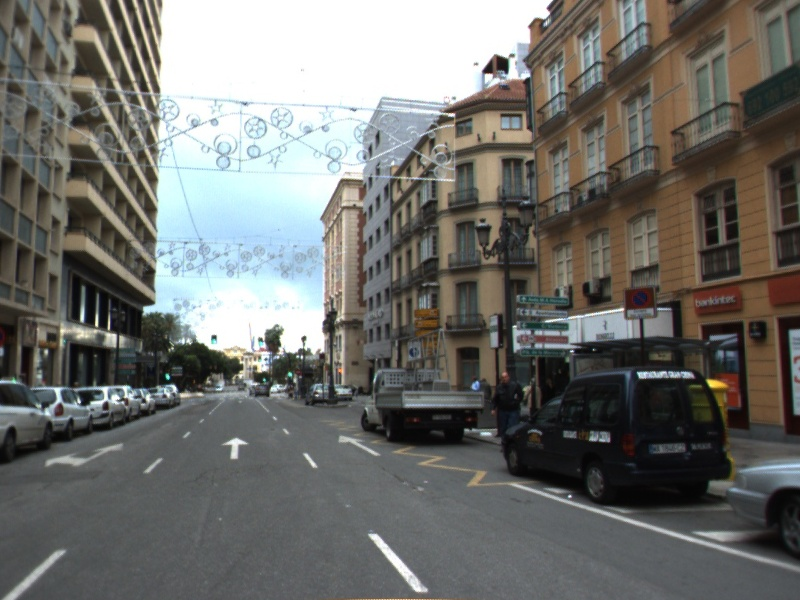STRAIGHT: (336, 433, 384, 459), (219, 435, 252, 461)
STRAIGHT_LEFT: (43, 441, 126, 470)
